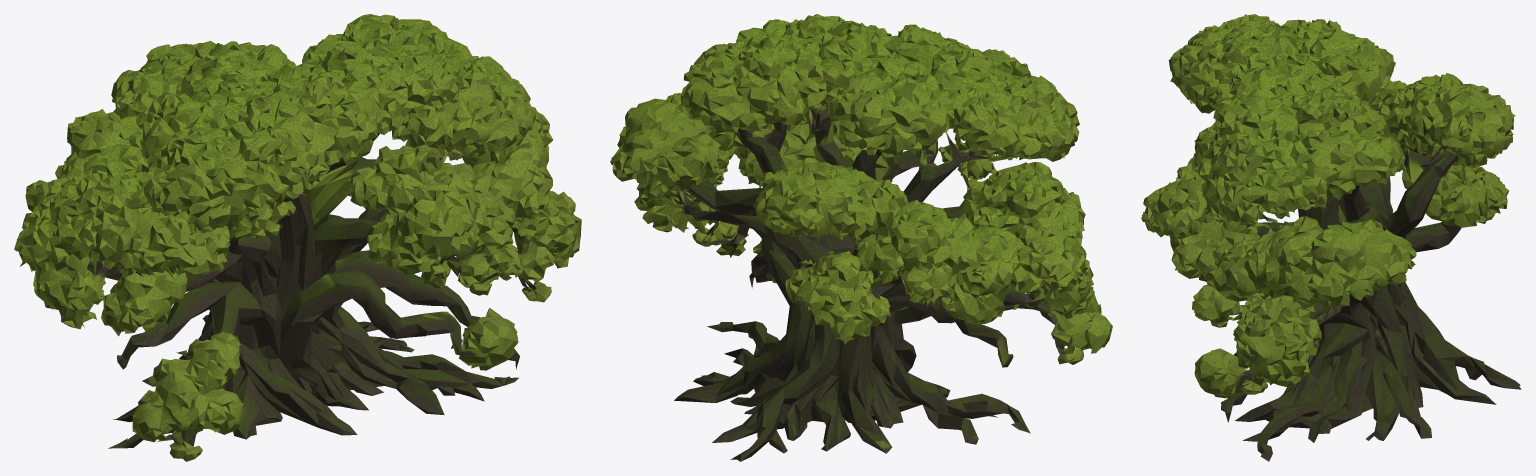
File: oak_hd.glb
3 views of the same model, side by side, from view 1: azimuth 30°, elevation 25°; view 2: azimuth 150°, elevation 25°; view 3: azimuth 270°, elevation 25° (orthographic). The views are drawn at different scales.
Bounding box in the file's own units: 1.9 × 1.3 × 1.35.
1 material, 1 textured.
